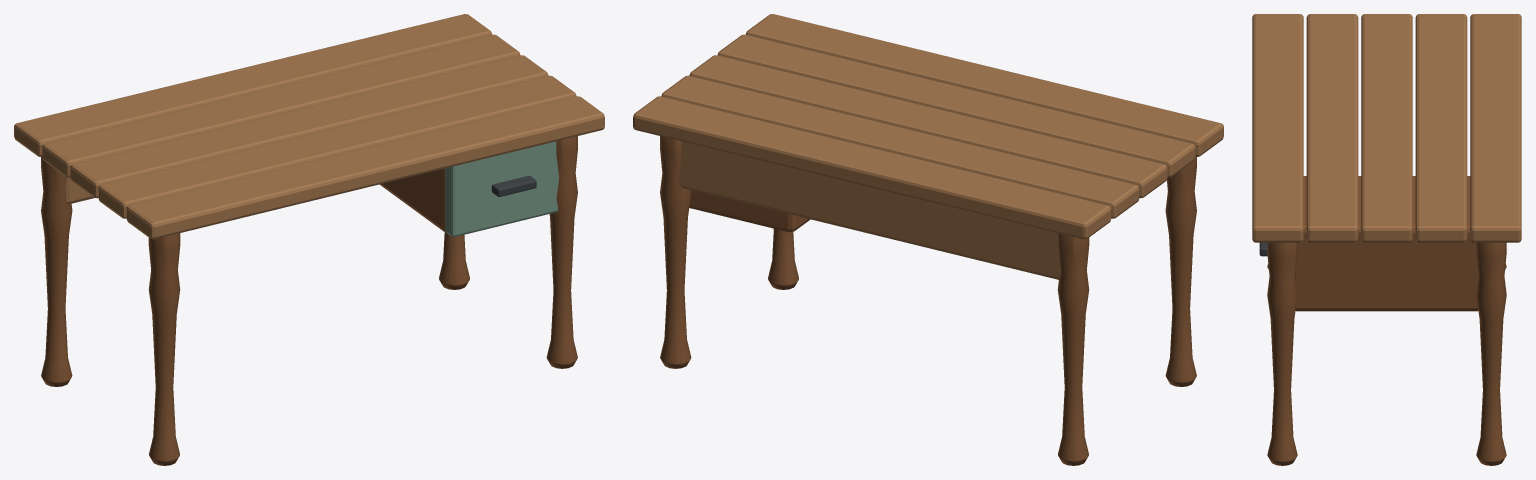
File: desk.glb
3 renders of one model, left to right at view 1: azimuth 30°, elevation 25°; view 2: azimuth 150°, elevation 25°; view 3: azimuth 270°, elevation 25°, orthographic. The views are drawn at different scales.
Parts seen in each view (by area): view 1: desktop_0, desktop_3, desktop_1, desktop_2, desktop_4, drawer_front, turned_leg.012, turned_leg.013, turned_leg.014, drawer_box, turned_leg.015, drawer_pull; view 2: desktop_4, back_apron, desktop_1, desktop_3, desktop_0, desktop_2, turned_leg.013, turned_leg.012, turned_leg.015, drawer_box, turned_leg.014; view 3: drawer_box, desktop_1, desktop_3, desktop_0, desktop_4, desktop_2, turned_leg.014, turned_leg.015.
Boxes of the visible parts, bbox=[...] form: desktop_0: bbox=[126, 96, 604, 239]; desktop_3: bbox=[42, 34, 520, 177]; desktop_1: bbox=[98, 75, 576, 218]; desktop_2: bbox=[70, 55, 548, 198]; desktop_4: bbox=[14, 14, 492, 156]; drawer_front: bbox=[445, 141, 559, 236]; turned_leg.012: bbox=[148, 233, 180, 465]; turned_leg.013: bbox=[41, 157, 72, 386]; turned_leg.014: bbox=[546, 136, 577, 368]; drawer_box: bbox=[379, 168, 445, 231]; turned_leg.015: bbox=[439, 232, 469, 289]; drawer_pull: bbox=[491, 175, 536, 196]; desktop_4: bbox=[633, 96, 1111, 239]; back_apron: bbox=[678, 141, 1060, 279]; desktop_1: bbox=[717, 34, 1195, 177]; desktop_3: bbox=[661, 75, 1139, 218]; desktop_0: bbox=[745, 14, 1223, 156]; desktop_2: bbox=[689, 55, 1167, 198]; turned_leg.013: bbox=[1057, 233, 1089, 465]; turned_leg.012: bbox=[1165, 157, 1196, 386]; turned_leg.015: bbox=[660, 136, 691, 368]; drawer_box: bbox=[689, 190, 810, 232]; turned_leg.014: bbox=[768, 228, 798, 289]; drawer_box: bbox=[1295, 176, 1478, 311]; desktop_1: bbox=[1306, 14, 1358, 242]; desktop_3: bbox=[1415, 14, 1467, 242]; desktop_0: bbox=[1252, 14, 1303, 242]; desktop_4: bbox=[1470, 14, 1521, 242]; desktop_2: bbox=[1361, 14, 1412, 242]; turned_leg.014: bbox=[1267, 242, 1297, 465]; turned_leg.015: bbox=[1476, 242, 1506, 465].
Size of the model in its own units: 1.4 by 0.75 by 0.742.
